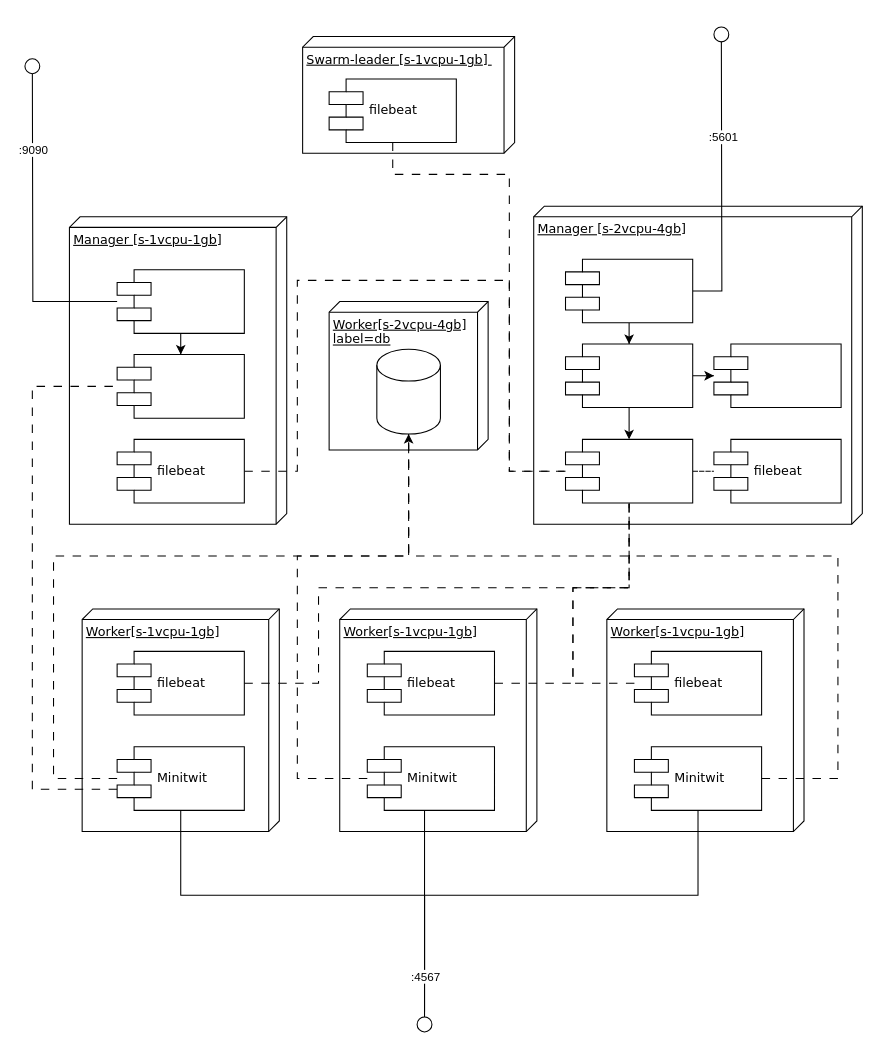
Image size: 881x1060. Some labels were removed from this diagram. The shapes that lost their labels are listed below. From the top down, each one's centre as x and y in pixels, then its label:
At pixel 180 301: "Grafana".
At pixel 628 290: "kibana".
At pixel 180 386: "Prometheus".
At pixel 408 391: "DB".
At pixel 628 375: "elasticsearch".
At pixel 777 375: "elasticsearch setup".
At pixel 628 470: "logstash".
